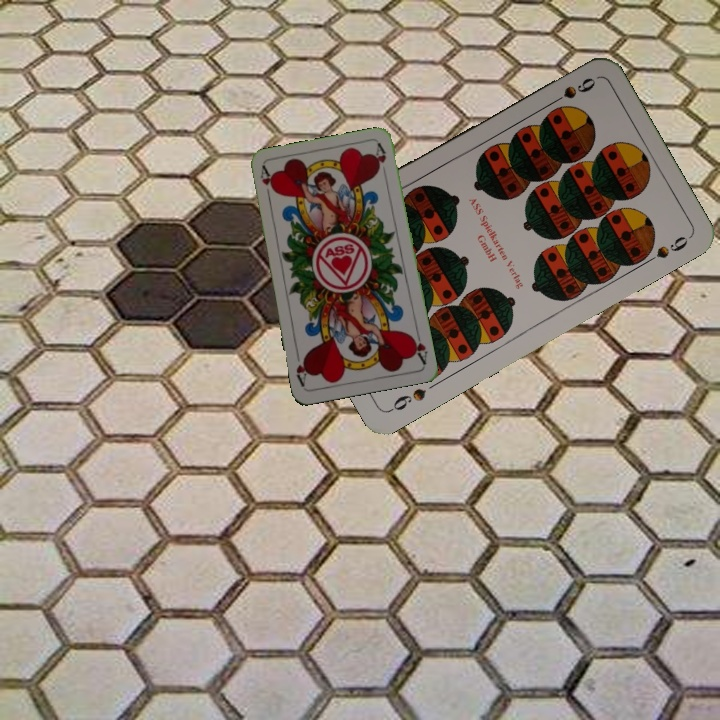HA: (407, 326, 430, 366), (256, 163, 276, 204)
S9: (544, 73, 599, 109), (385, 384, 429, 415)
